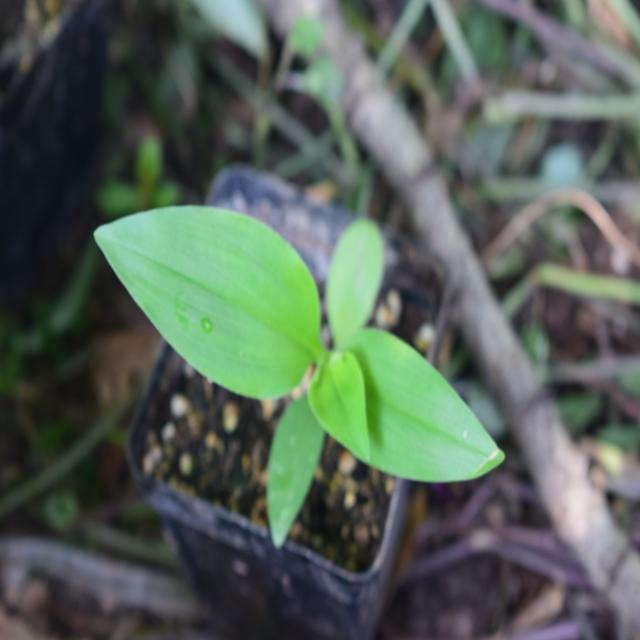Common Dayflower: (95, 175, 504, 526)
